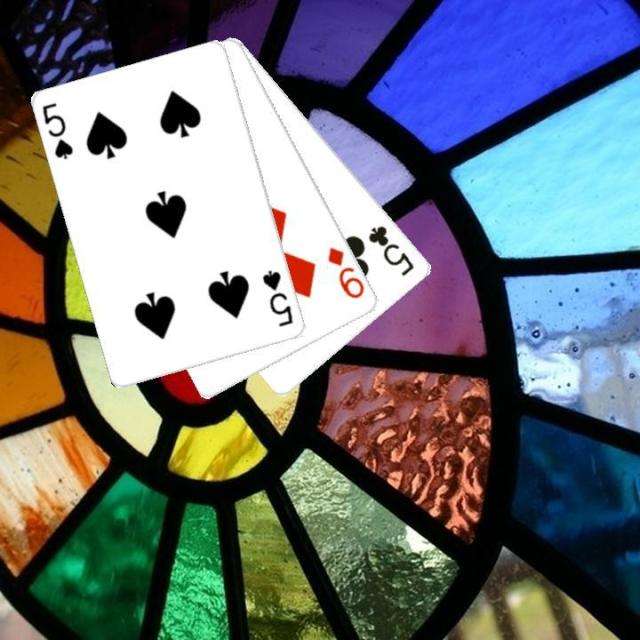5C: (364, 222, 417, 278)
5S: (38, 98, 76, 162), (259, 267, 296, 329)
9D: (324, 243, 367, 301)
